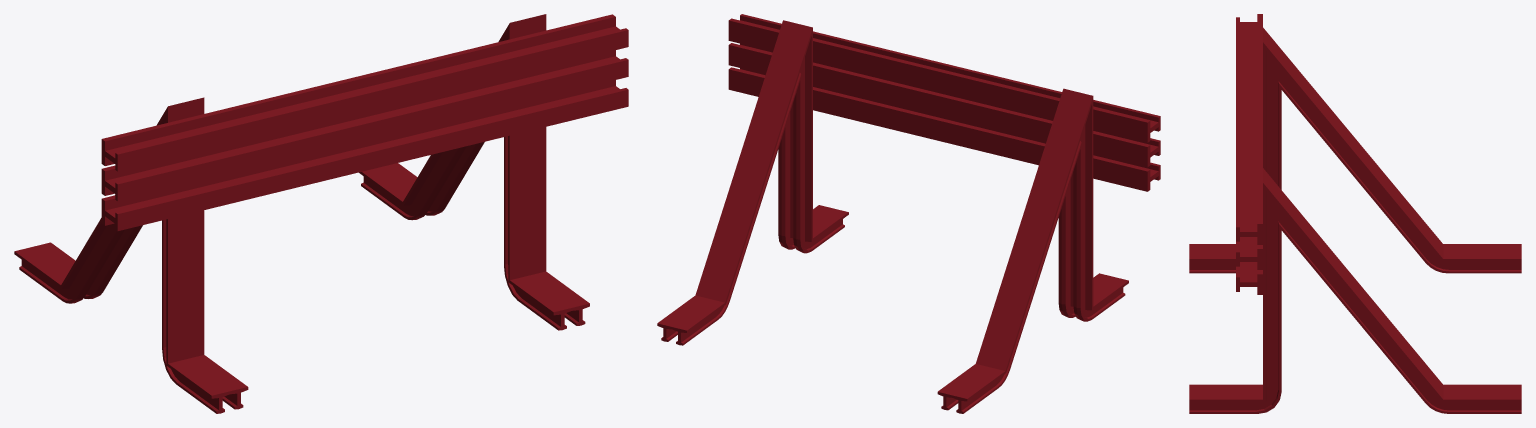
Rendered from dead-end.glb.
3 renders of one model, left to right at view 1: azimuth 30°, elevation 25°; view 2: azimuth 150°, elevation 25°; view 3: azimuth 270°, elevation 25°, orthographic. The views are drawn at different scales.
Visible parts, largest first — view 1: Top_Bar, Las_Bar, Mid_Bar, Bevel_Support_L, Bevel_Support_R; view 2: Bevel_Support_L, Bevel_Support_R, Top_Bar, Mid_Bar, Las_Bar; view 3: Bevel_Support_R, Bevel_Support_L, Top_Bar, Mid_Bar, Las_Bar.
Part boxes in pixels (<box>): Top_Bar: <box>101,14,628,171</box>; Las_Bar: <box>101,80,628,231</box>; Mid_Bar: <box>101,50,628,201</box>; Bevel_Support_L: <box>14,97,248,413</box>; Bevel_Support_R: <box>359,14,589,330</box>; Bevel_Support_L: <box>937,88,1128,413</box>; Bevel_Support_R: <box>657,20,848,345</box>; Top_Bar: <box>728,14,1160,142</box>; Mid_Bar: <box>728,43,1160,167</box>; Las_Bar: <box>728,67,1160,191</box>; Bevel_Support_R: <box>1189,168,1521,413</box>; Bevel_Support_L: <box>1189,27,1521,273</box>; Top_Bar: <box>1236,14,1262,244</box>; Mid_Bar: <box>1236,237,1262,269</box>; Las_Bar: <box>1236,262,1262,294</box>.
Bounding box in the file's own units: 1.68 × 0.8702 × 1.12.
